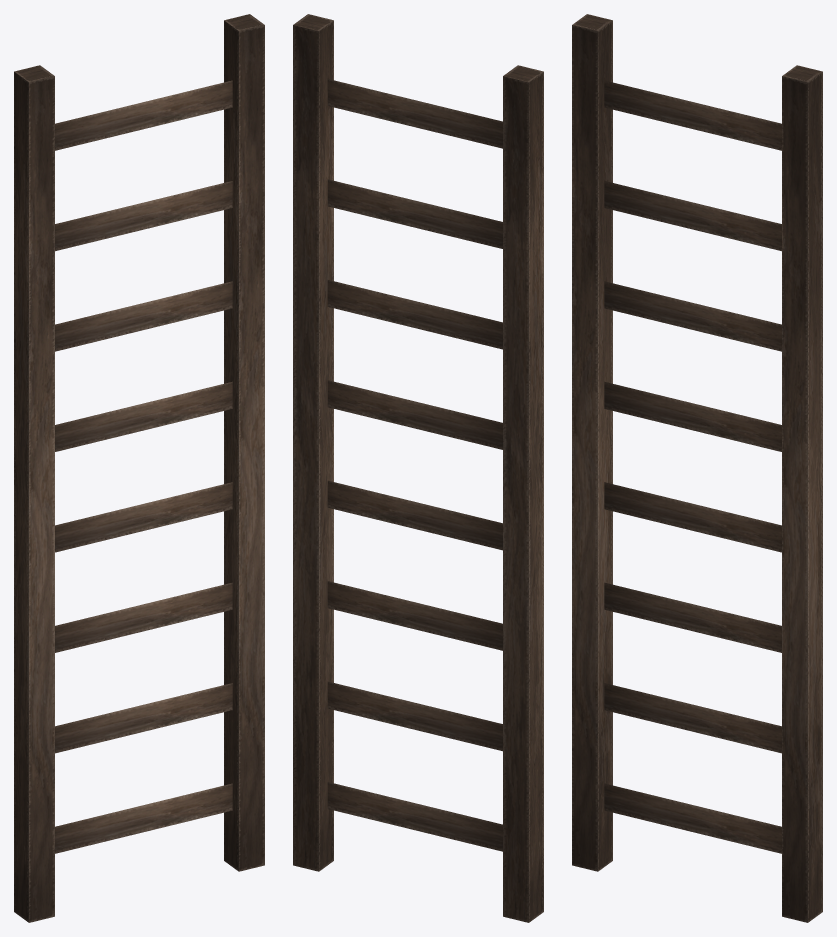
The model's file is Ladder.fbx.
The picture shows the model from 3 angles, left to right: view 1: azimuth 30°, elevation 25°; view 2: azimuth 150°, elevation 25°; view 3: azimuth 330°, elevation 25°; orthographic projection.
Visible parts, largest first — view 1: Ladder; view 2: Ladder; view 3: Ladder.
Part boxes in pixels (bbox=[...]): Ladder: bbox=[14, 14, 264, 922]; Ladder: bbox=[293, 14, 543, 922]; Ladder: bbox=[572, 14, 822, 922].
Bounding box in the file's own units: 70.67 × 241 × 7.77.
